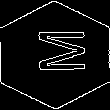M_W: (26, 32, 84, 78)
